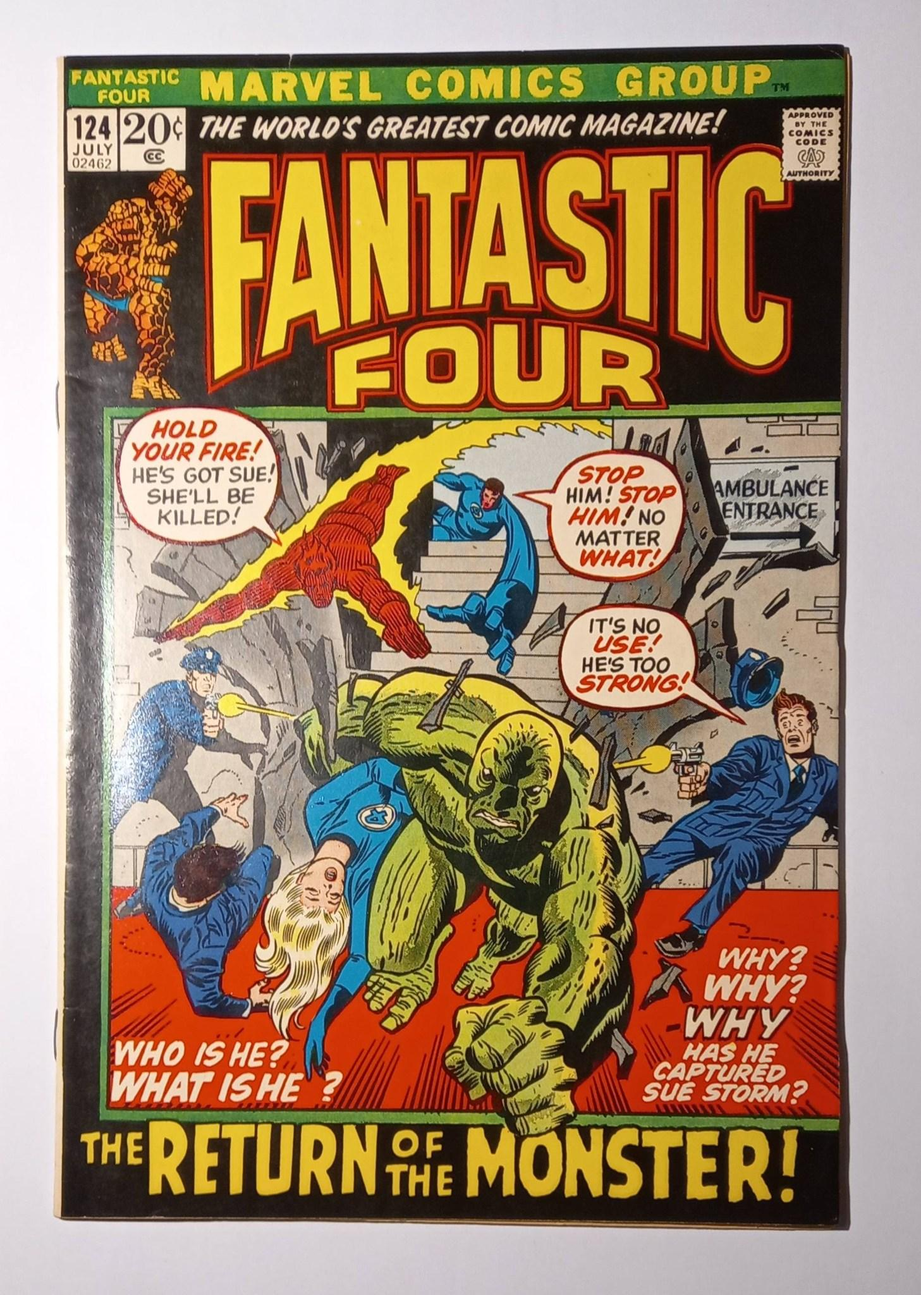comic: (58, 45, 848, 1226)
